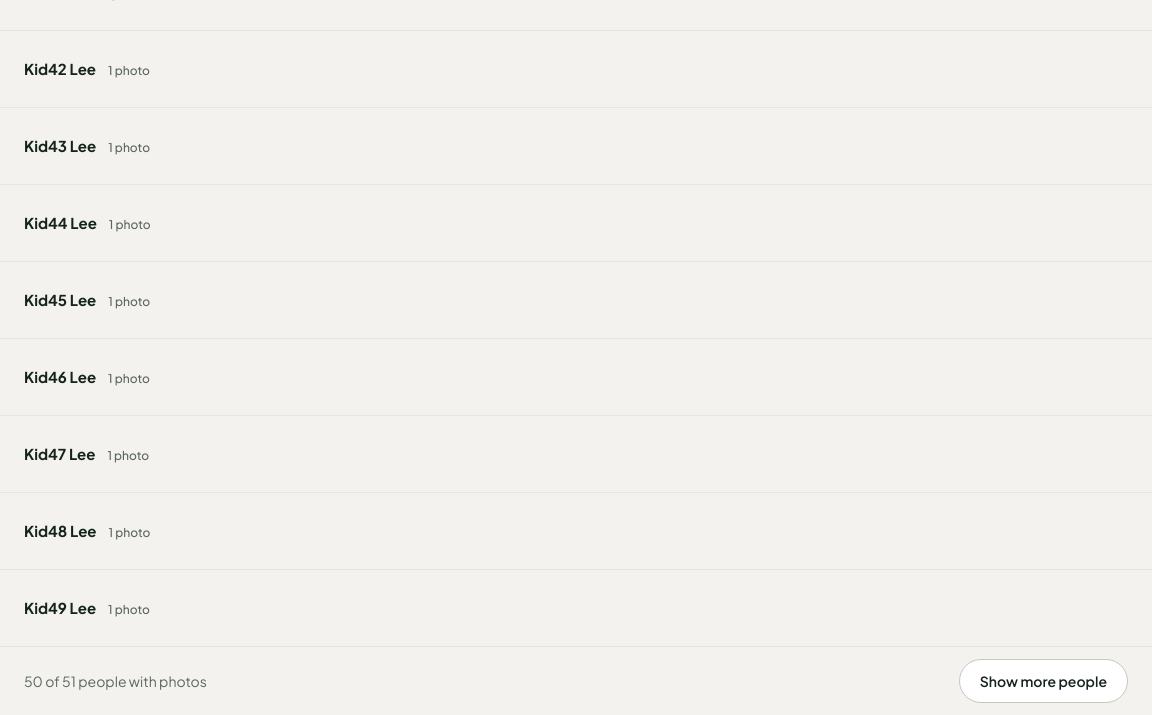
Test: Show more people › says when the next page couldn't be read, and Try again loads it
(page scrolled)
What coordinates should you click on to do the following:
click the button "Show more people"
I would click on:
 (1043, 681)
Its box is [959,659,1128,703].
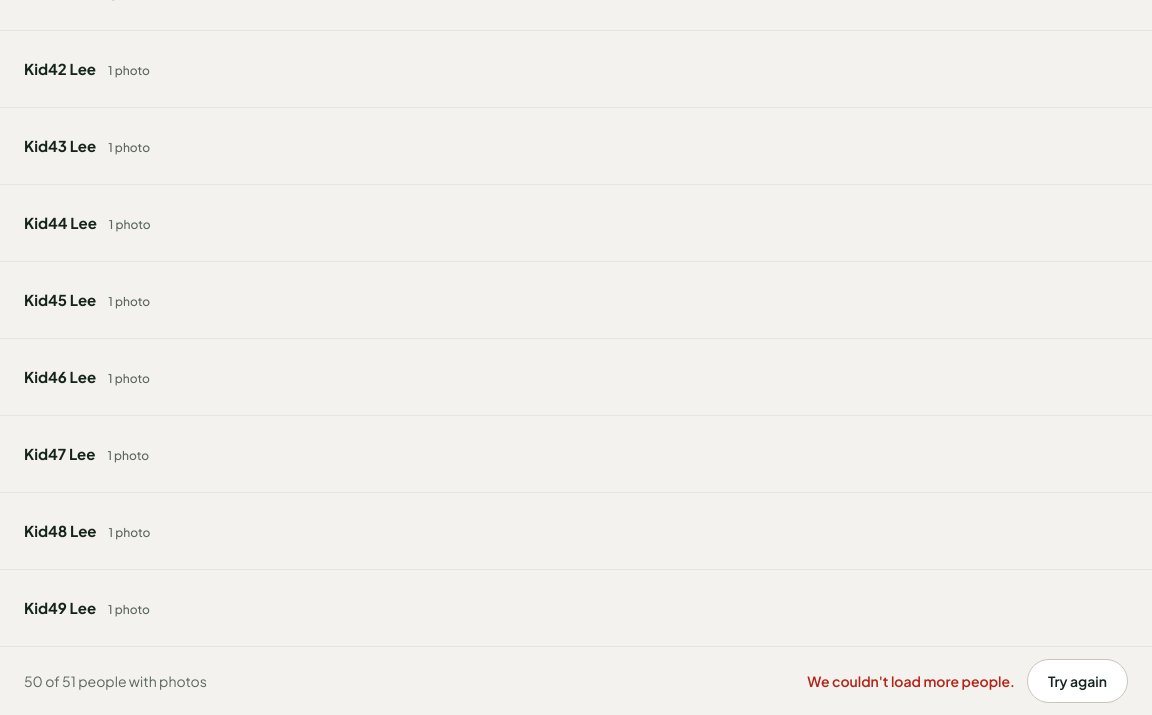
Now the message "We couldn't load more people." is shown, box [807,671,1015,691]
What coordinates should you click on to do the following:
click the button "Try again"
I would click on:
 (1077, 681)
Its box is [1027,659,1128,703].
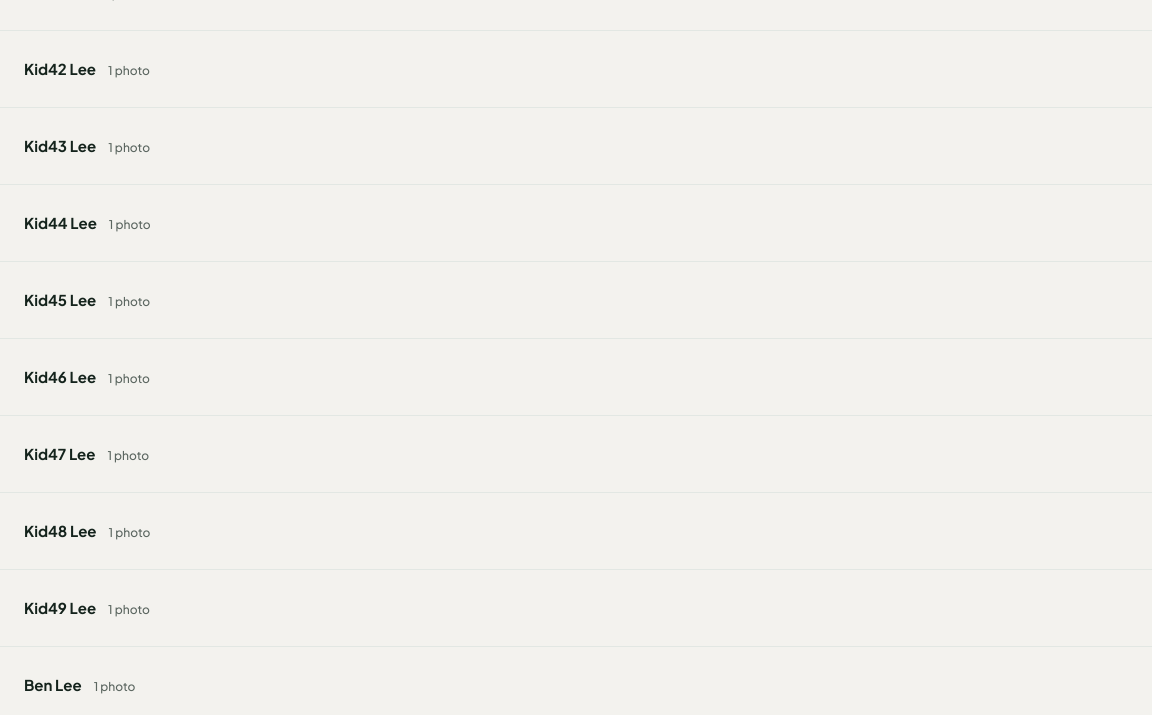
Now the message "We couldn't load more people." is gone
Now the text "Ben Lee" is shown, box [24,675,82,694]
